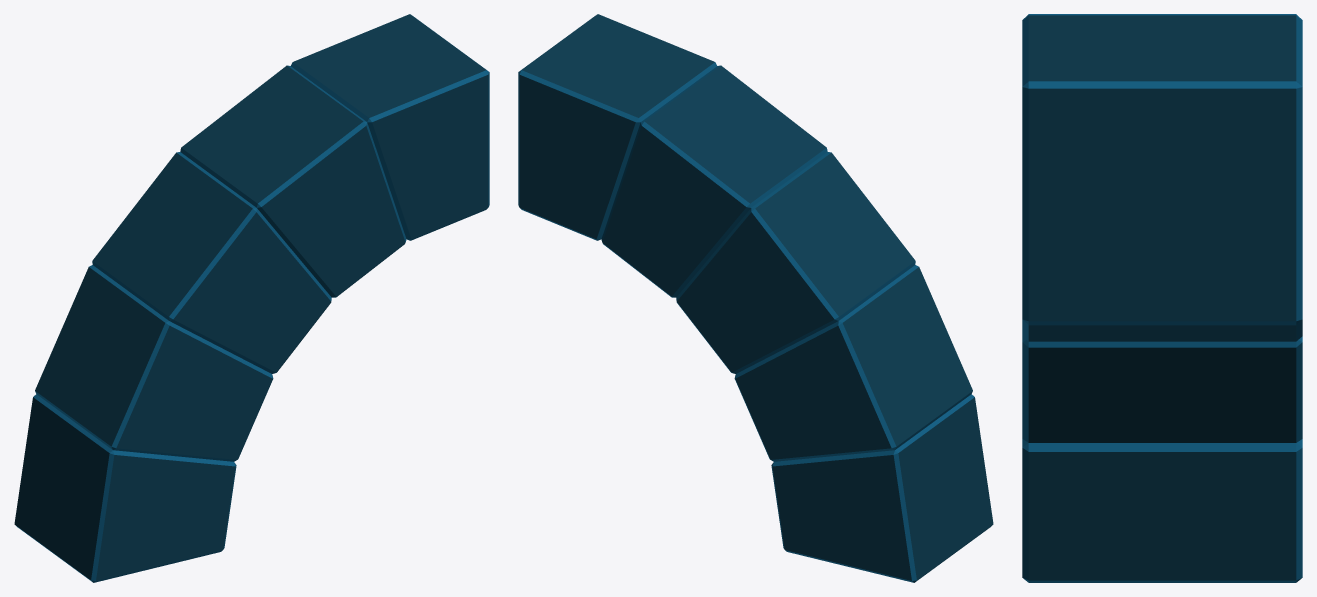
File: baseGate_type_02.fbx
3 renders of one model, left to right at view 1: azimuth 30°, elevation 25°; view 2: azimuth 150°, elevation 25°; view 3: azimuth 270°, elevation 25°, orthographic. The views are drawn at different scales.
Visible parts, largest first — view 1: baseGate_type_02; view 2: baseGate_type_02; view 3: baseGate_type_02.
Part boxes in pixels (<box>): baseGate_type_02: <box>14,14,489,582</box>; baseGate_type_02: <box>518,14,993,582</box>; baseGate_type_02: <box>1022,14,1302,582</box>.
Size of the model in its own units: 172 by 172 by 60.
